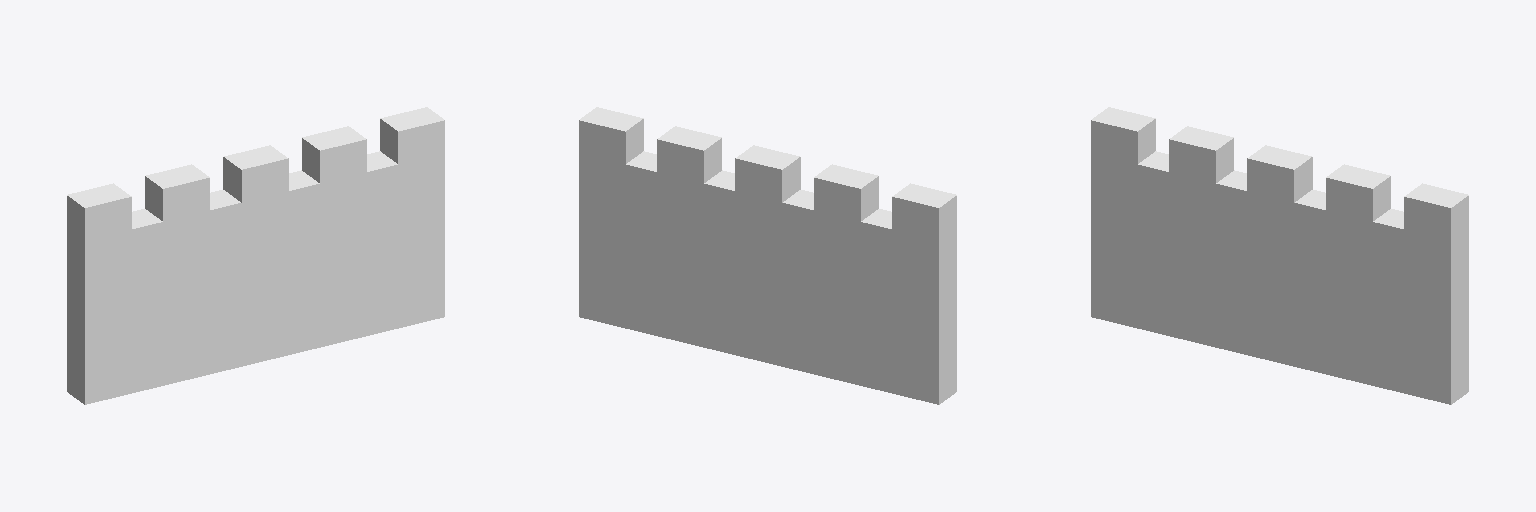
Rendered from StenaPop1.obj.
The picture shows the model from 3 angles: view 1: azimuth 30°, elevation 25°; view 2: azimuth 150°, elevation 25°; view 3: azimuth 330°, elevation 25°; orthographic projection.
Parts seen in each view (by area): view 1: object 1; view 2: object 1; view 3: object 1.
Part boxes in pixels (x1,y1,x2,y2): object 1: (67, 107, 444, 404); object 1: (579, 107, 956, 404); object 1: (1091, 107, 1468, 404).
Size of the model in its own units: 18.4 by 9.6 by 1.6.